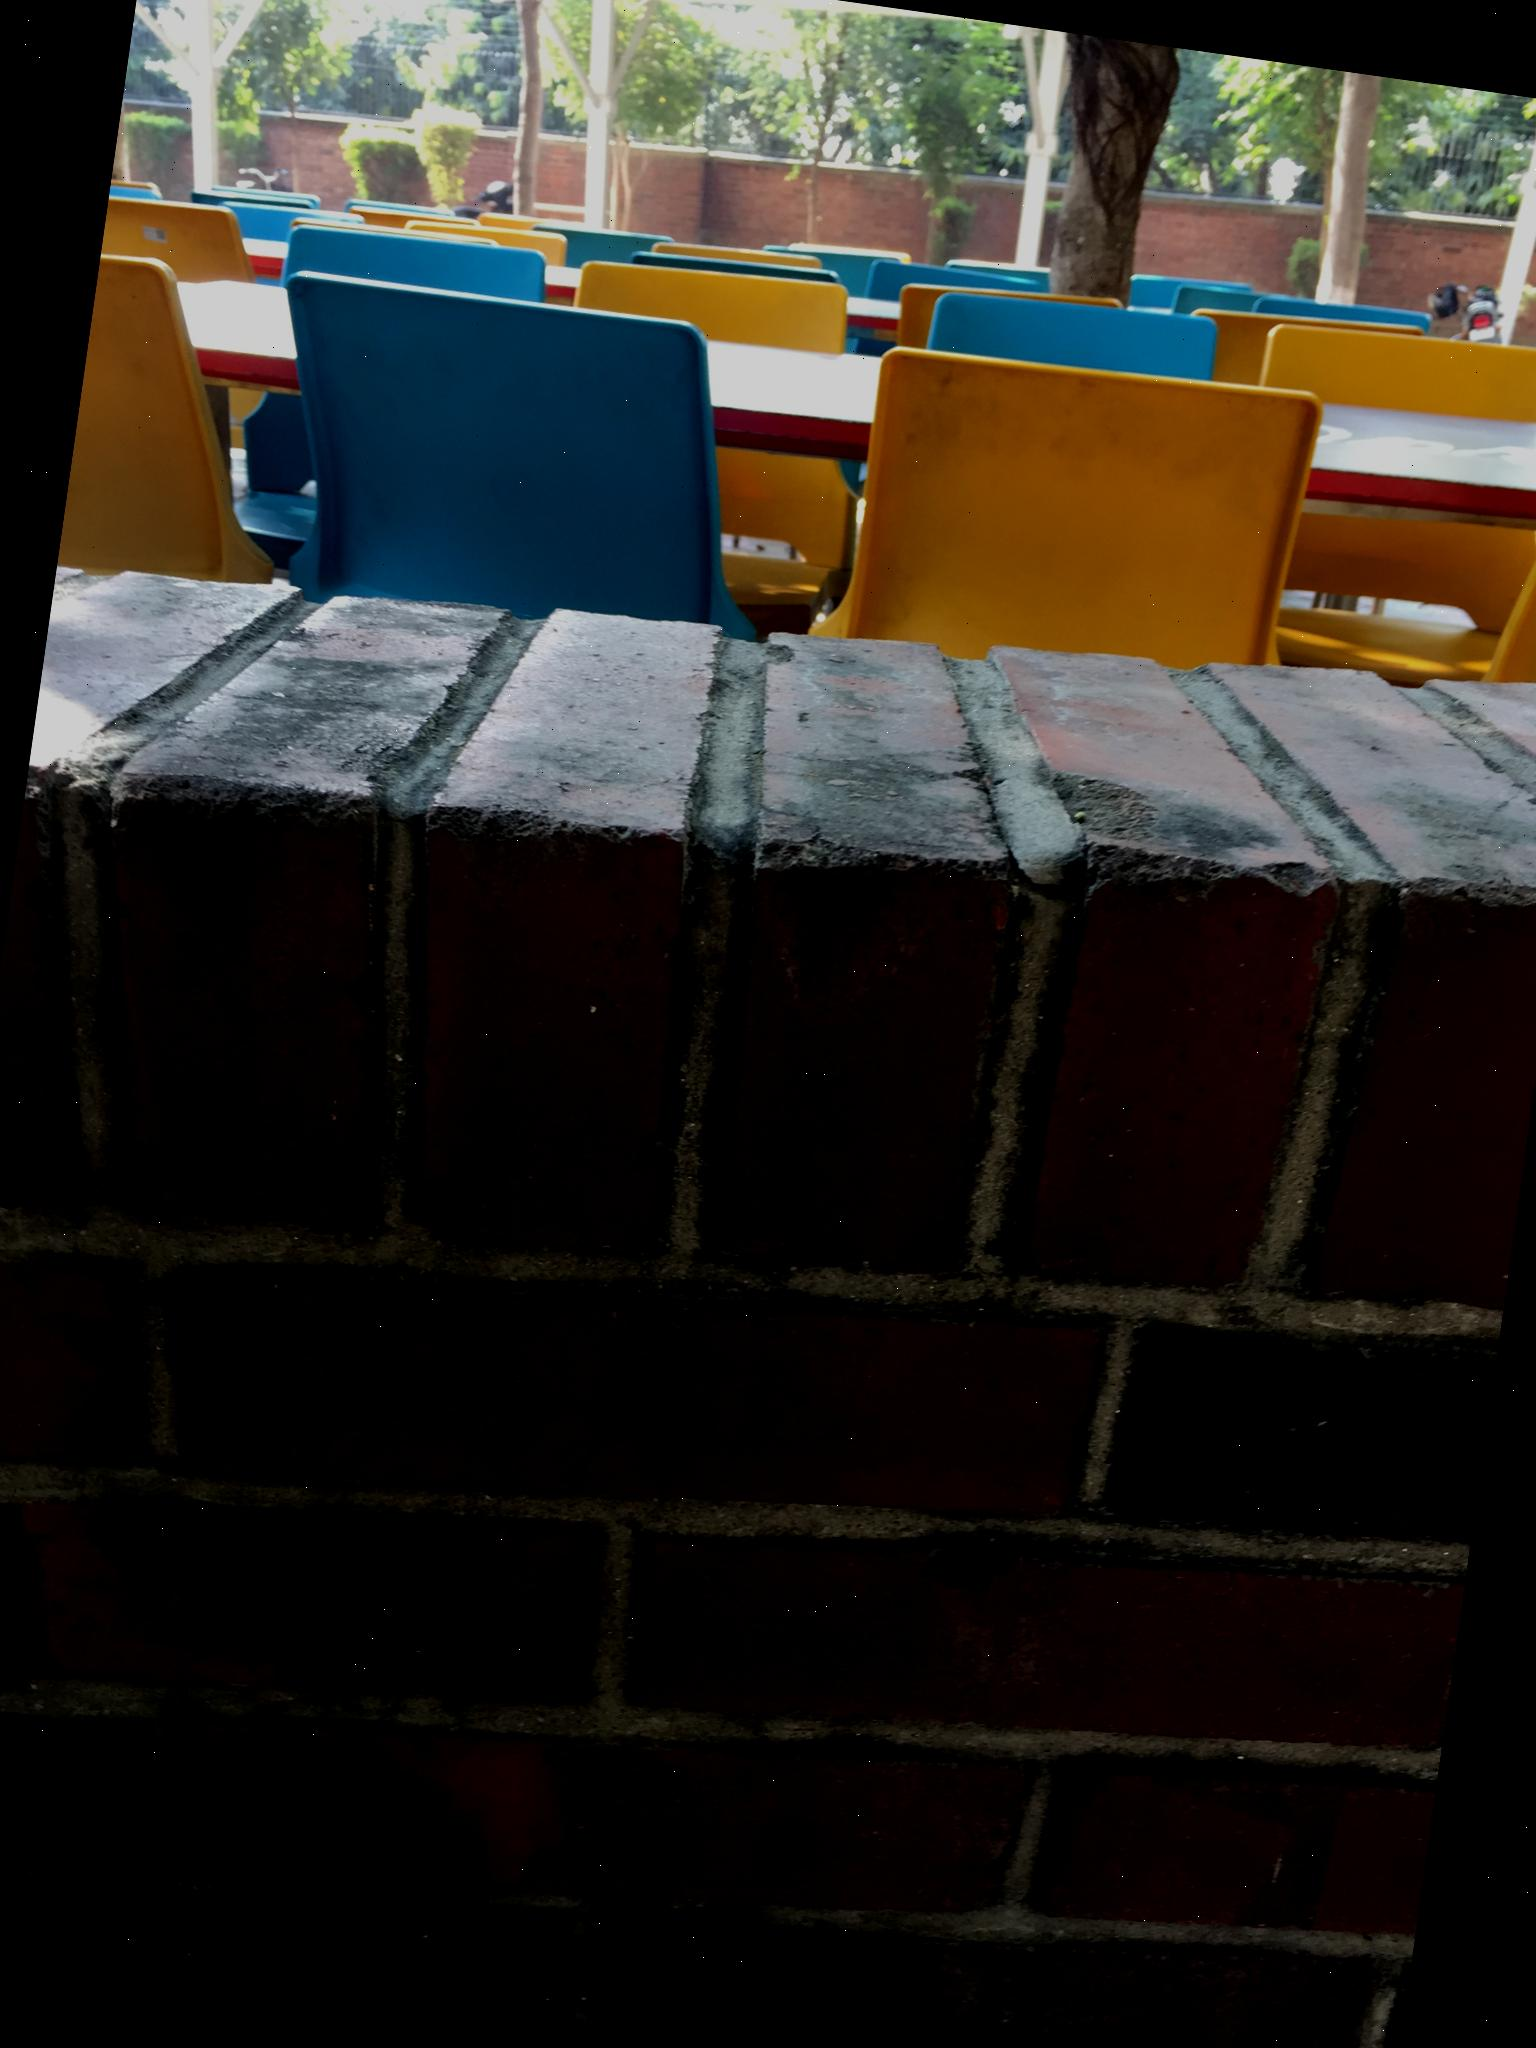chair: (245, 264, 800, 660), (818, 327, 1326, 701), (534, 242, 891, 634), (1255, 310, 1536, 640), (58, 250, 316, 595), (1271, 402, 1536, 708), (925, 276, 1221, 389), (1183, 297, 1425, 411), (284, 224, 552, 316), (98, 192, 242, 282), (631, 232, 839, 290), (1126, 268, 1260, 323)
